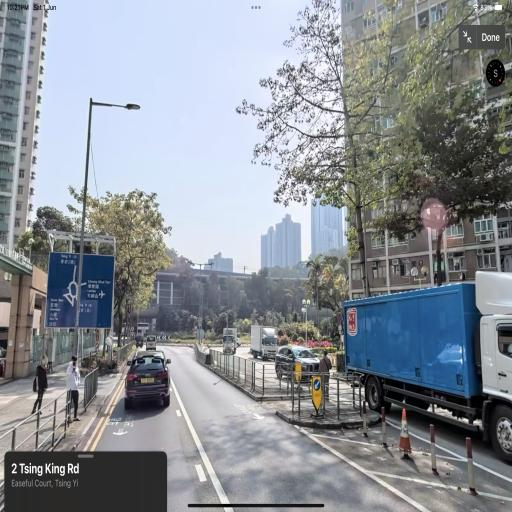Roads: (82, 336, 502, 505)
Trees: (255, 15, 485, 280), (79, 194, 156, 330)
